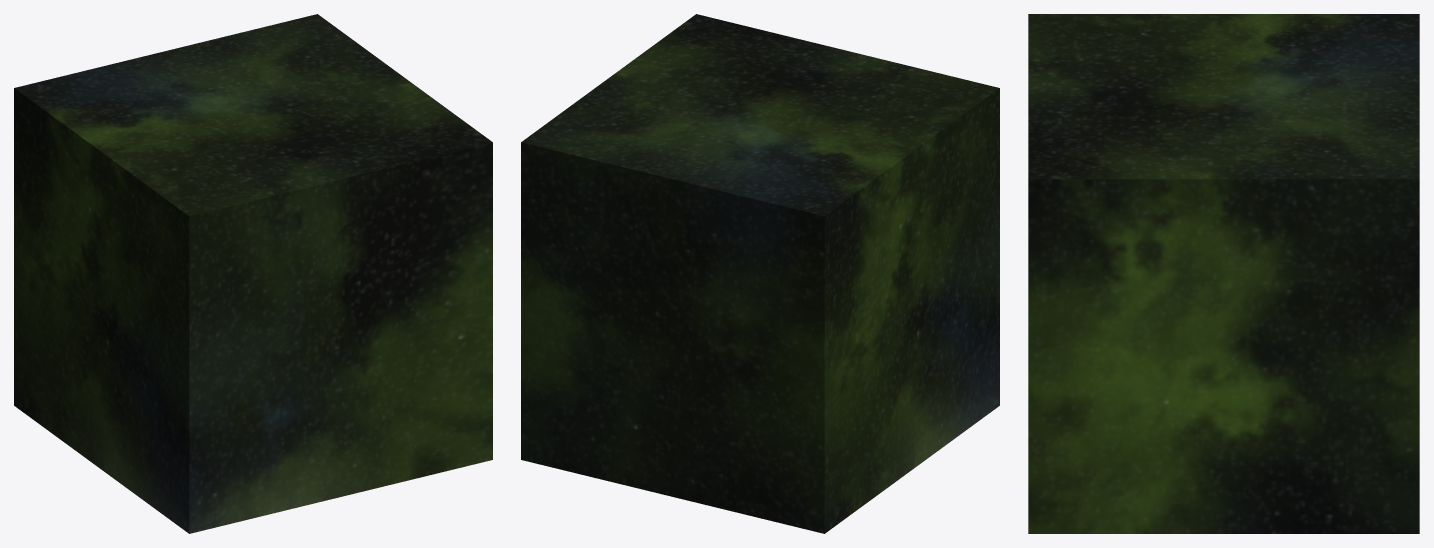
The model's file is SKYBOX.obj.
The picture shows the model from 3 angles, left to right: view 1: azimuth 30°, elevation 25°; view 2: azimuth 150°, elevation 25°; view 3: azimuth 270°, elevation 25°; orthographic projection. The views are drawn at different scales.
Parts seen in each view (by area): view 1: Cube; view 2: Cube; view 3: Cube.
Boxes of the visible parts, x1,y1,x2,y2 form: Cube: (14,14,492,533); Cube: (521,14,999,533); Cube: (1028,14,1419,533).
Bounding box in the file's own units: 20 × 20 × 20.
Materials: 1 (1 with a texture image).
